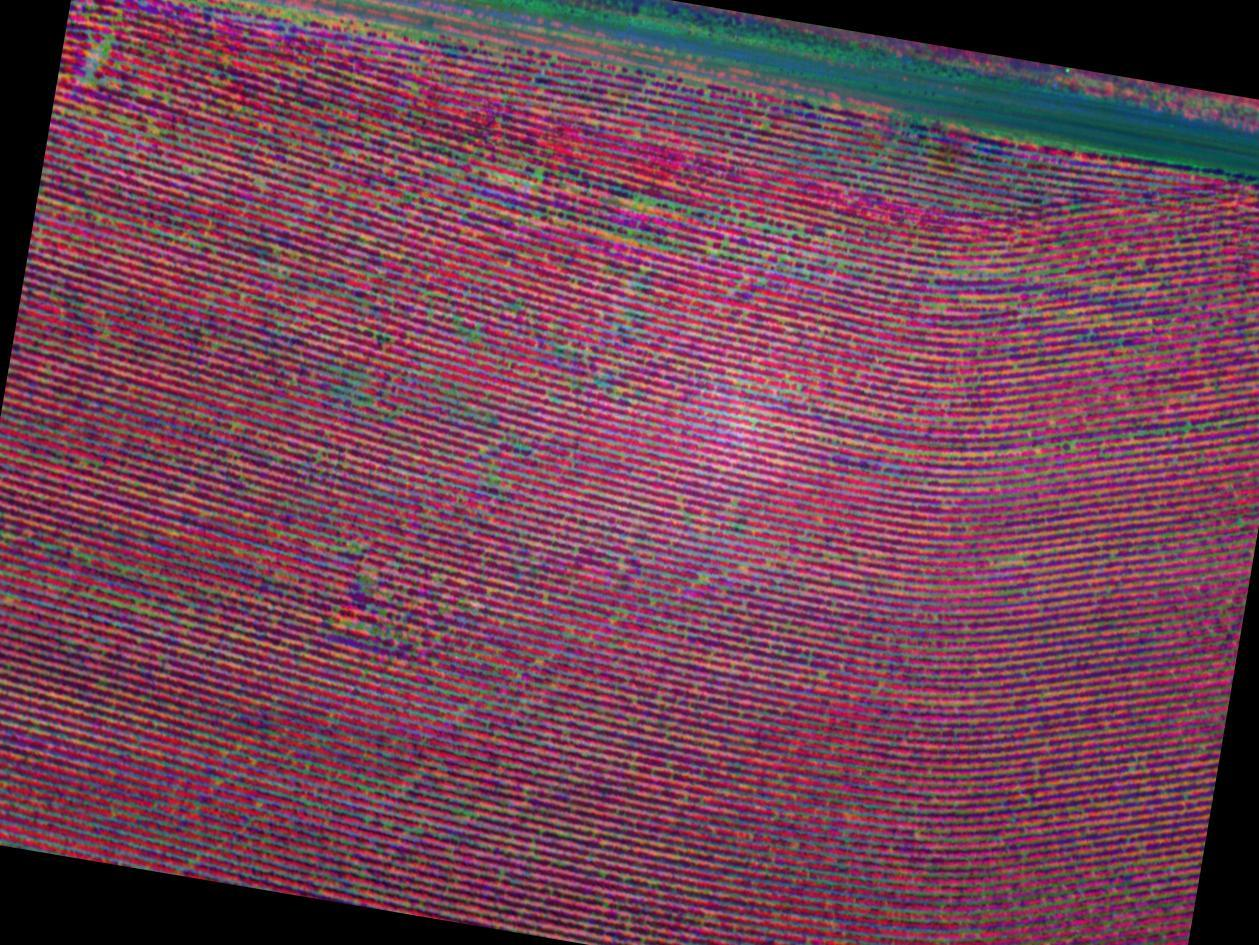dc: (610, 158, 750, 232), (454, 136, 569, 220), (76, 10, 151, 117), (318, 353, 402, 426)
